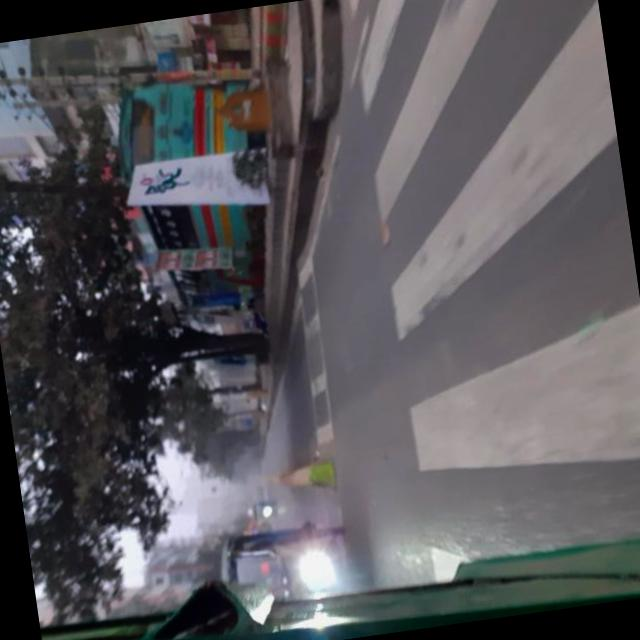bus: (106, 69, 270, 323)
motorcycle: (216, 516, 360, 606), (250, 496, 274, 520)
